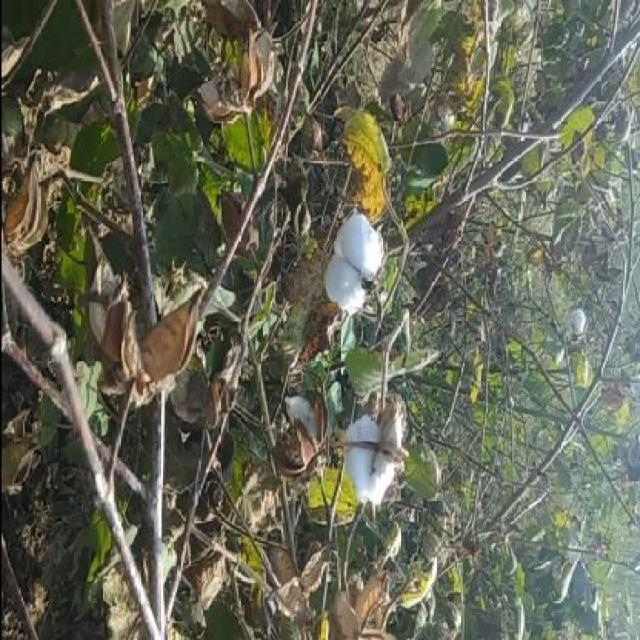cotton_ready: (317, 178, 394, 332), (329, 389, 406, 522)
